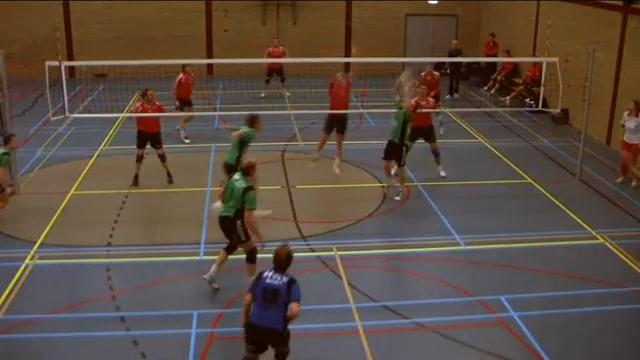Player: (203, 160, 262, 289), (243, 245, 300, 359), (408, 88, 445, 177), (220, 114, 261, 188), (132, 116, 173, 186), (314, 113, 347, 174), (0, 133, 16, 208), (173, 64, 194, 111), (418, 65, 440, 107), (265, 62, 289, 95)
Set: (376, 63, 420, 209)
ball: (397, 67, 413, 86)
